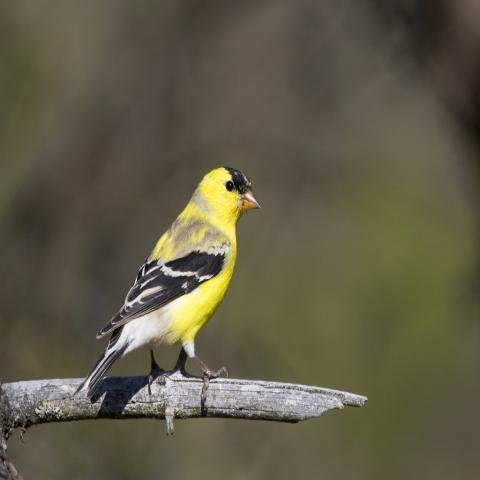bird: (70, 162, 262, 414)
